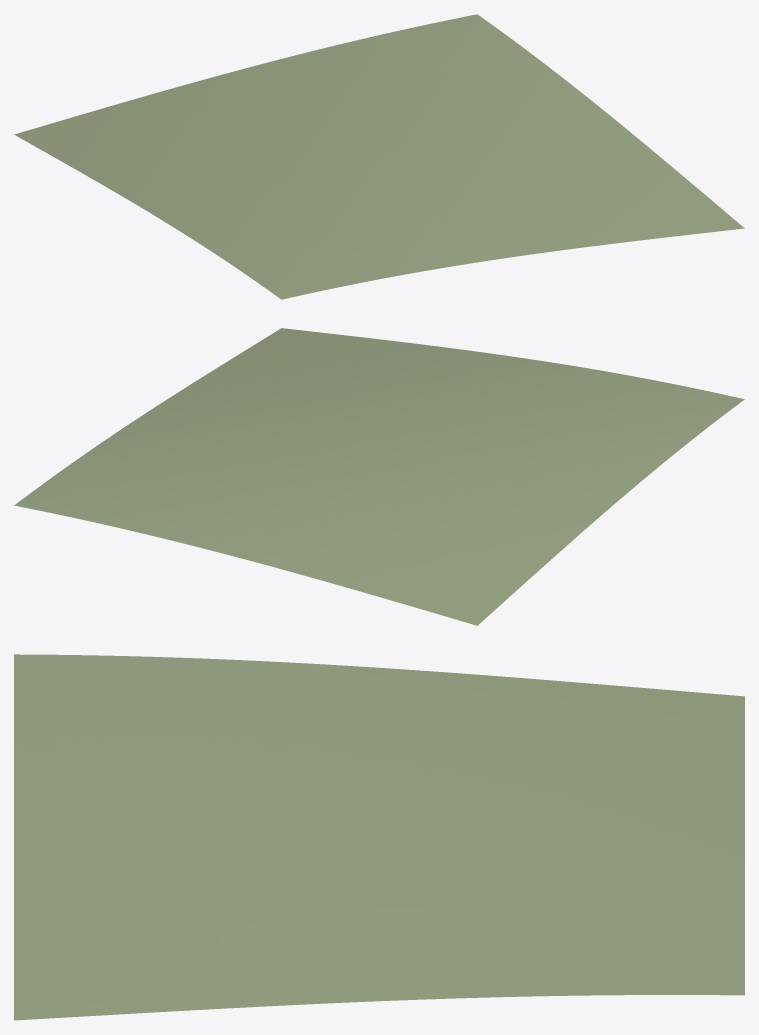
File: alpine-6-14.glb
3 views of the same model, one above another, from view 1: azimuth 30°, elevation 25°; view 2: azimuth 150°, elevation 25°; view 3: azimuth 270°, elevation 25° (orthographic). The views are drawn at different scales.
Parts seen in each view (by area): view 1: alpine-6-14; view 2: alpine-6-14; view 3: alpine-6-14.
Boxes of the visible parts, x1=… form: alpine-6-14: x1=14, y1=14, x2=744, y2=299; alpine-6-14: x1=14, y1=328, x2=744, y2=625; alpine-6-14: x1=14, y1=654, x2=744, y2=1020.
Size of the model in its own units: 256 by 22.08 by 256.
